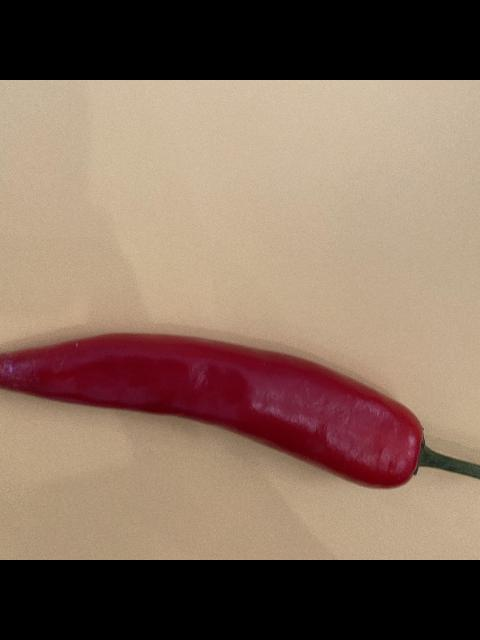chilli: (0, 330, 480, 493)
